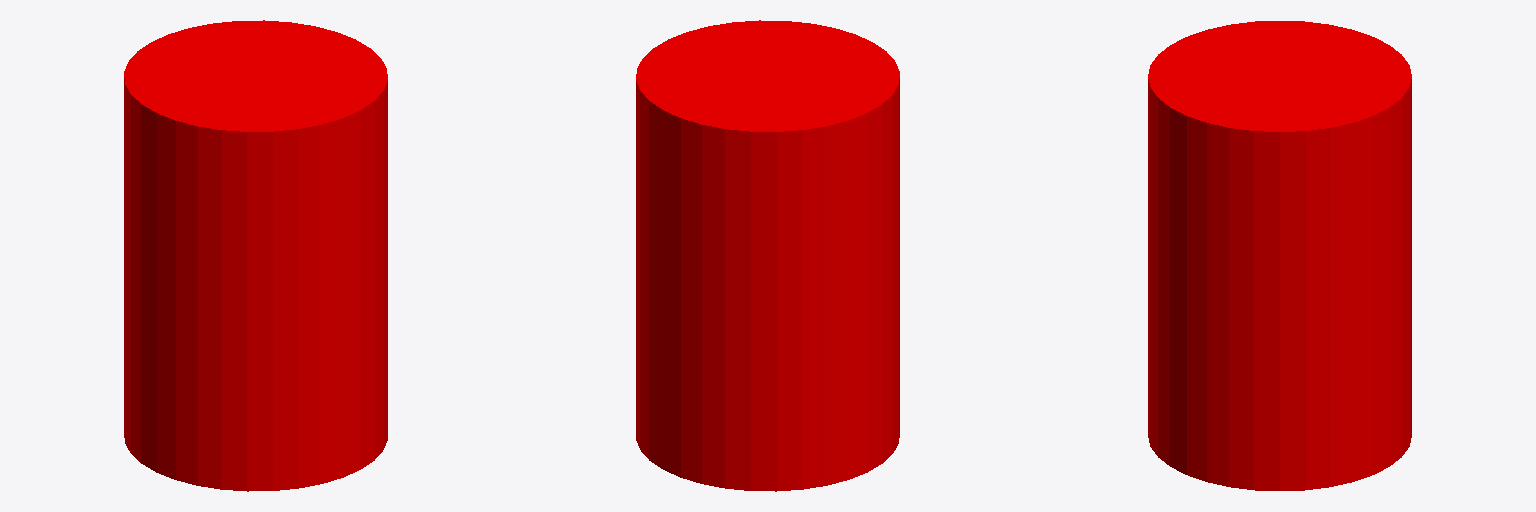
The robot description file, URDF, robot "cylinder":
<?xml version="1.0"?>
<robot name="cylinder">
  <link name="cylinder">
    <collision>
      <geometry>
        <cylinder length="0.3" radius="0.1"/>
      </geometry>
      <origin rpy="0 0 0" xyz="0 0 0"/>
    </collision>
    <visual>
      <geometry>
        <cylinder length="0.3" radius="0.1"/>
      </geometry>
      <origin rpy="0 0 0" xyz="0 0 0"/>
      <material name="red">
        <color rgba="1 0 0 1.0"/>
      </material>
    </visual>
  </link>
</robot>

--- Facts derived from the render (not from the file) ---
Views: 3 orthographic renders of the robot side by side, from view 1: azimuth 30°, elevation 25°; view 2: azimuth 150°, elevation 25°; view 3: azimuth 270°, elevation 25°.
Robot: cylinder — 1 links, 0 joints (none); root link cylinder; default pose: all joints at 0.
Links seen in each view (by area): view 1: cylinder; view 2: cylinder; view 3: cylinder.
Boxes of the visible links, bbox=[...] form: cylinder: bbox=[124, 20, 387, 491]; cylinder: bbox=[636, 20, 899, 491]; cylinder: bbox=[1148, 21, 1411, 490].
Bounding box of the posed robot: 0.2 × 0.2 × 0.3 m (x, y, z).
Geometry: primitives only (box / cylinder / sphere), no mesh files.